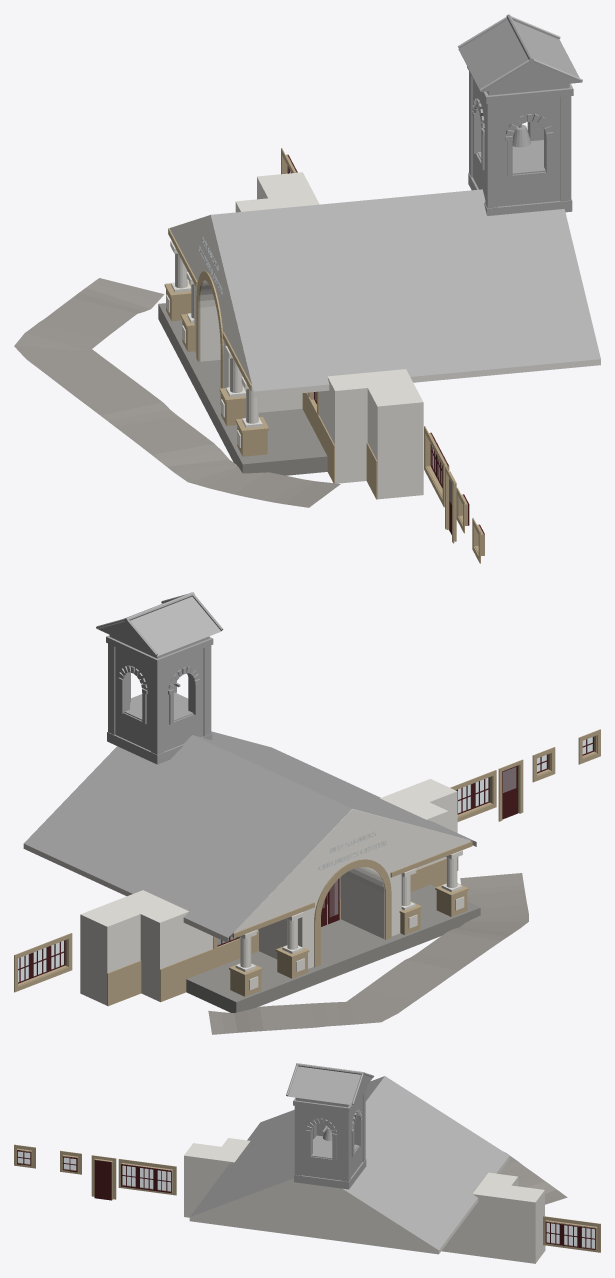
3 renders of one model, top to bottom at view 1: azimuth 30°, elevation 25°; view 2: azimuth 150°, elevation 25°; view 3: azimuth 270°, elevation 25°, orthographic. The views are drawn at different scales.
Visible parts, largest first — view 1: Children's Center roof W entry gable (photo eave 113.55 / Li, Children's Center entry pediment, arch piers + vault, porch , Children's Center bell-cote (asset BellCote_RedTile_Children, Children's Center walk dropoff_apron (ne2), Children's Center tan base band, arch band, pedestals (photo, Children's Center porch slab (photo; edge UNVERIFIED); view 2: Children's Center roof W entry gable (photo eave 113.55 / Li, Children's Center entry pediment, arch piers + vault, porch , Children's Center bell-cote (asset BellCote_RedTile_Children, Children's Center tan base band, arch band, pedestals (photo, Children's Center walk dropoff_apron (ne2), Children's Center porch slab (photo; edge UNVERIFIED), Children's Center entry doors, side lites, fan transom munti, Children's Center entry door glass (photo); view 3: Children's Center roof W entry gable (photo eave 113.55 / Li, Children's Center entry pediment, arch piers + vault, porch , Children's Center bell-cote (asset BellCote_RedTile_Children, Children's Center tan base band, arch band, pedestals (photo, Children's Center entry doors, side lites, fan transom munti, Children's Center entry door glass (photo), Children's Center walk dropoff_apron (ne2).
Boxes of the visible parts, x1,y1,x2,y2 form: Children's Center roof W entry gable (photo eave 113.55 / Li: [168, 189, 600, 397]; Children's Center entry pediment, arch piers + vault, porch : [170, 172, 423, 499]; Children's Center bell-cote (asset BellCote_RedTile_Children: [457, 14, 582, 215]; Children's Center walk dropoff_apron (ne2): [14, 278, 340, 507]; Children's Center tan base band, arch band, pedestals (photo: [164, 148, 484, 563]; Children's Center porch slab (photo; edge UNVERIFIED): [158, 303, 327, 475]; Children's Center roof W entry gable (photo eave 113.55 / Li: [23, 731, 476, 942]; Children's Center entry pediment, arch piers + vault, porch : [80, 779, 470, 1005]; Children's Center bell-cote (asset BellCote_RedTile_Children: [96, 592, 223, 764]; Children's Center tan base band, arch band, pedestals (photo: [14, 729, 600, 1006]; Children's Center walk dropoff_apron (ne2): [208, 873, 528, 1034]; Children's Center porch slab (photo; edge UNVERIFIED): [186, 884, 480, 1012]; Children's Center entry doors, side lites, fan transom munti: [18, 736, 593, 983]; Children's Center entry door glass (photo): [18, 737, 592, 982]; Children's Center roof W entry gable (photo eave 113.55 / Li: [189, 1076, 509, 1254]; Children's Center entry pediment, arch piers + vault, porch : [184, 1138, 544, 1263]; Children's Center bell-cote (asset BellCote_RedTile_Children: [286, 1063, 374, 1189]; Children's Center tan base band, arch band, pedestals (photo: [14, 1144, 600, 1252]; Children's Center entry doors, side lites, fan transom munti: [17, 1150, 595, 1249]; Children's Center entry door glass (photo): [17, 1151, 594, 1248]; Children's Center walk dropoff_apron (ne2): [499, 1152, 567, 1204].
Size of the model in its own units: 17.64 by 11.87 by 29.2.
